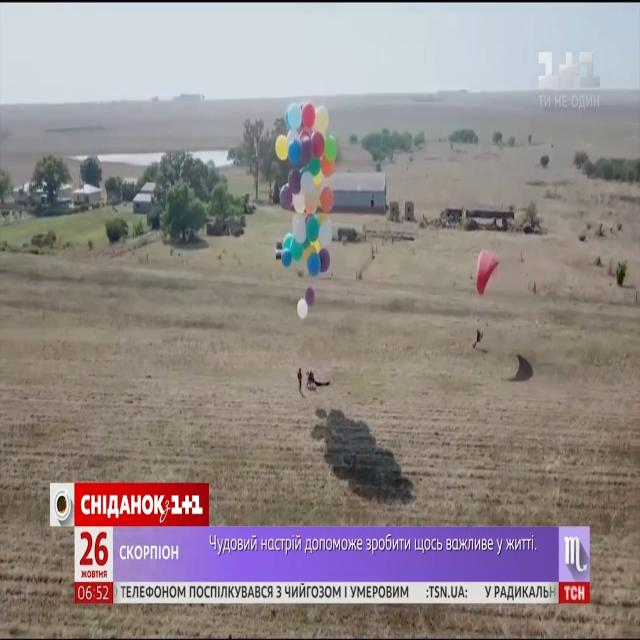balloon: (304, 183, 318, 214), (292, 213, 306, 243), (313, 105, 329, 131), (275, 133, 288, 162), (304, 243, 320, 266), (302, 103, 316, 129), (288, 140, 302, 166), (300, 136, 313, 164), (289, 104, 302, 131), (312, 132, 325, 158), (324, 135, 337, 161), (321, 222, 334, 248), (308, 252, 322, 276), (307, 218, 320, 243), (288, 170, 302, 192), (301, 171, 315, 193), (279, 187, 294, 207), (321, 187, 333, 211), (291, 193, 304, 215), (321, 158, 335, 177), (320, 248, 331, 272), (290, 240, 303, 258), (308, 157, 320, 173), (298, 300, 308, 318), (282, 248, 292, 265), (306, 288, 316, 305), (317, 213, 330, 223), (283, 233, 291, 249)
